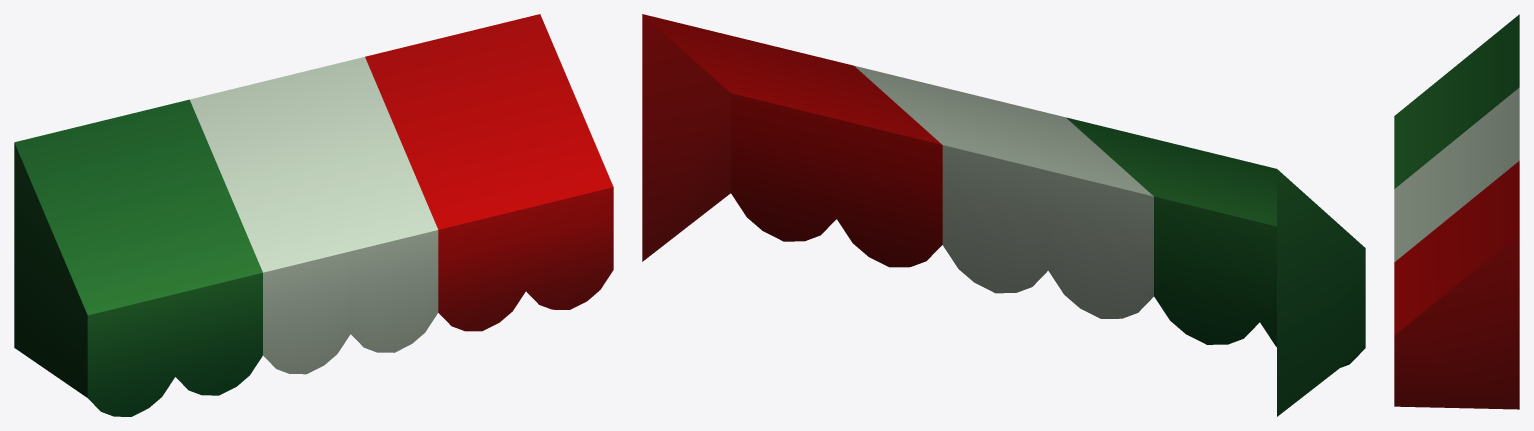
File: Awning_01A.fbx
The picture shows the model from 3 angles, left to right: view 1: azimuth 30°, elevation 25°; view 2: azimuth 150°, elevation 25°; view 3: azimuth 270°, elevation 25°; orthographic projection. The views are drawn at different scales.
Parts seen in each view (by area): view 1: Awning_01A; view 2: Awning_01A; view 3: Awning_01A.
Boxes of the visible parts, x1=… form: Awning_01A: x1=14, y1=14, x2=613, y2=416; Awning_01A: x1=642, y1=14, x2=1365, y2=416; Awning_01A: x1=1394, y1=14, x2=1519, y2=409.
Size of the model in its own units: 241 by 101 by 58.18.
1 material, 1 textured.
